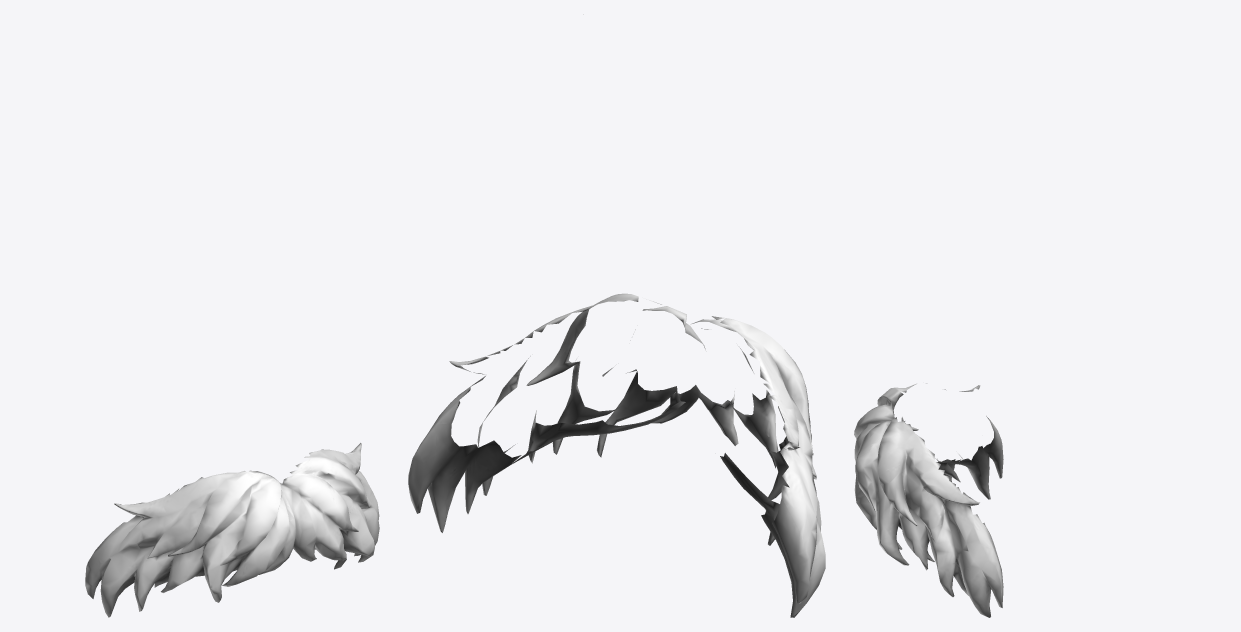
File: beard-mustache.glb
3 views of the same model, side by side, from view 1: azimuth 30°, elevation 25°; view 2: azimuth 150°, elevation 25°; view 3: azimuth 270°, elevation 25° (orthographic). The views are drawn at different scales.
Visible parts, largest first — view 1: tripo_node_bd7401b0-f7cd-4789-a1f3-4ddbf15c9c16; view 2: tripo_node_bd7401b0-f7cd-4789-a1f3-4ddbf15c9c16; view 3: tripo_node_bd7401b0-f7cd-4789-a1f3-4ddbf15c9c16.
Part boxes in pixels (x1,y1,x2,y2): tripo_node_bd7401b0-f7cd-4789-a1f3-4ddbf15c9c16: (85, 443, 379, 617); tripo_node_bd7401b0-f7cd-4789-a1f3-4ddbf15c9c16: (408, 14, 825, 617); tripo_node_bd7401b0-f7cd-4789-a1f3-4ddbf15c9c16: (854, 383, 1003, 617).
Bounding box in the file's own units: 0.1363 × 0.234 × 0.1587.
Materials: 1 (1 with a texture image).
